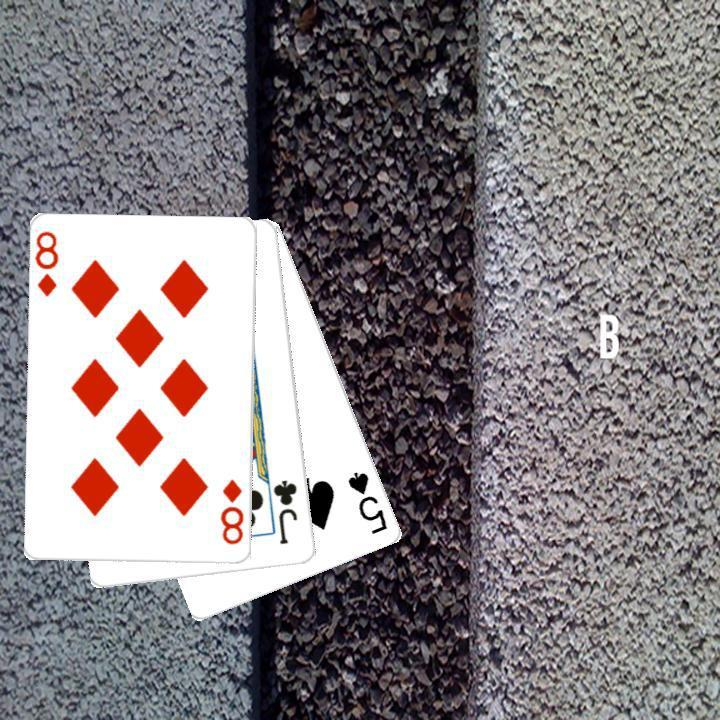5: (344, 468, 390, 537)
8: (216, 475, 246, 547), (33, 227, 61, 299)
J: (269, 476, 300, 547)
